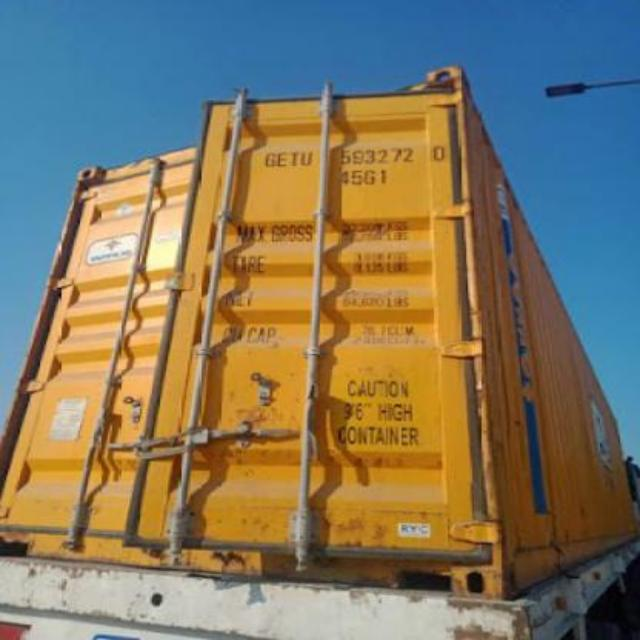0: (431, 144, 447, 162)
2: (402, 146, 414, 164), (378, 147, 388, 165)
3: (364, 147, 376, 165)
5: (340, 150, 352, 166)
7: (390, 147, 402, 163)
9: (352, 148, 364, 166)
E: (278, 152, 288, 166)
G: (264, 152, 276, 168)
T: (288, 150, 300, 168)
U: (300, 150, 314, 168)
